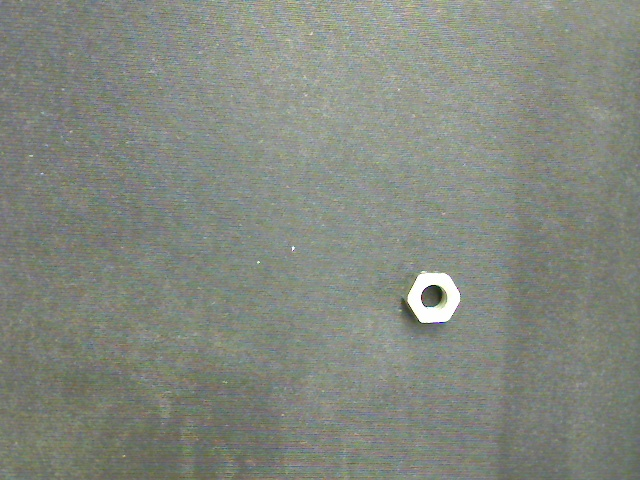Nut: (403, 268, 461, 324)
